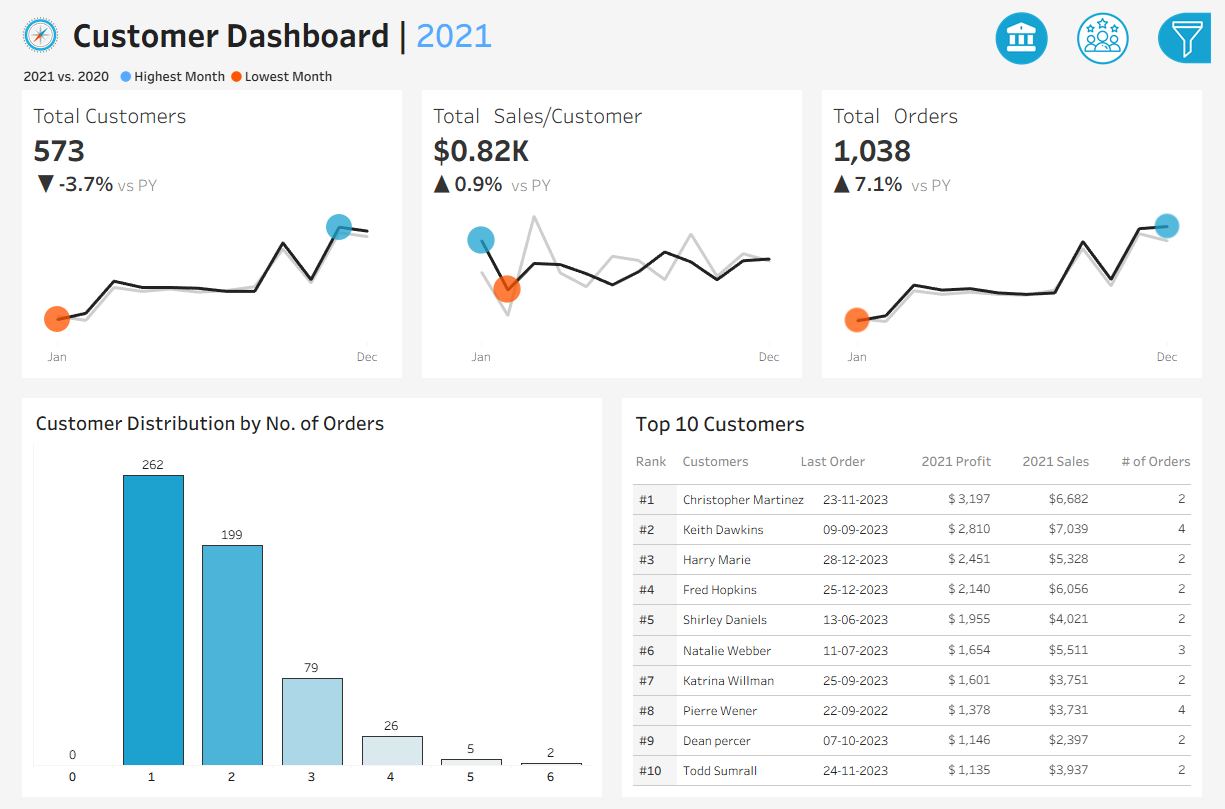

The dashboard page shown, as its layout file describes it:
{"tool":"tableau","page":{"name":"Customer Dashboard","canvas":[1200,800],"ordinal":0},"visuals":[{"type":"image","param":"Image/Icon - Logo.png","box":[2,0,52,55]},{"type":"text","box":[54,0,930,55]},{"type":"dashboard-object","box":[969,0,81,62]},{"type":"dashboard-object","box":[1050,0,81,62]},{"type":"blank","box":[978,5,215,80]},{"type":"worksheet","title":"Legend of KPI","mark":"Automatic","box":[0,55,1200,28]},{"type":"worksheet","title":"KPI Customers","mark":"Line","rows":["Min/Max profit (copy)_0750723922718724"],"cols":["Order Date"],"box":[0,83,400,298]},{"type":"worksheet","title":"KPI Sales Per Customers","mark":"Line","rows":["Min/Max Customers (copy)_0750723931500553"],"cols":["Order Date"],"box":[400,83,400,298]},{"type":"worksheet","title":"KPI Orders","mark":"Line","rows":["Min/Max Customers (copy)_0125651641778185"],"cols":["Order Date"],"box":[800,83,400,298]},{"type":"text","box":[978,85,215,32]},{"type":"parameter","param":"[Parameters].[Parameter 1018997670502403]","box":[978,117,215,63]},{"type":"blank","box":[978,180,215,45]},{"type":"text","box":[978,225,215,29]},{"type":"filter","title":"Customer Distribution","param":"[federated.0a49qa90tgosyq102g3m016yynfo].[none:Category:nk]","box":[978,254,215,52]},{"type":"filter","title":"Customer Distribution","param":"[federated.0a49qa90tgosyq102g3m016yynfo].[none:Sub-Category:nk]","box":[978,306,215,52]},{"type":"blank","box":[978,358,215,42]},{"type":"text","box":[17,398,566,34]},{"type":"text","box":[617,398,566,36]},{"type":"text","box":[978,400,215,38]},{"type":"worksheet","title":"Customer Distribution","mark":"Bar","rows":["Calculation_0190247816388609"],"cols":["Calculation_0506357867786240"],"box":[17,432,566,351]},{"type":"text","box":[617,434,47,39]},{"type":"text","box":[664,434,118,39]},{"type":"text","box":[782,434,121,39]},{"type":"text","box":[903,434,101,39]},{"type":"text","box":[1004,434,99,39]},{"type":"text","box":[1103,434,80,39]},{"type":"filter","title":"Customer Distribution","param":"[federated.0a49qa90tgosyq102g3m016yynfo].[none:Region:nk]","box":[978,438,215,52]},{"type":"worksheet","title":"Top Customers","mark":"Automatic","rows":["Calculation_0382663016828929","Customer Name","Order Date"],"box":[617,473,566,310]},{"type":"filter","title":"Customer Distribution","param":"[federated.0a49qa90tgosyq102g3m016yynfo].[none:State:nk]","box":[978,490,215,52]},{"type":"filter","title":"Customer Distribution","param":"[federated.0a49qa90tgosyq102g3m016yynfo].[none:City:nk]","box":[978,542,215,52]}]}

Visuals, with their boxes in screenshot pixels (x1, y1, x2, y2), scaled from the page's 1200x800 canvas onto the 1225x809 screenshot:
image: bbox=(2, 0, 55, 56)
text: bbox=(55, 0, 1004, 56)
dashboard-object: bbox=(989, 0, 1072, 63)
dashboard-object: bbox=(1072, 0, 1155, 63)
blank: bbox=(998, 5, 1218, 86)
"Legend of KPI" worksheet: bbox=(0, 56, 1224, 84)
"KPI Customers" worksheet (Line marks): bbox=(0, 84, 408, 385)
"KPI Sales Per Customers" worksheet (Line marks): bbox=(408, 84, 817, 385)
"KPI Orders" worksheet (Line marks): bbox=(817, 84, 1224, 385)
text: bbox=(998, 86, 1218, 118)
parameter: bbox=(998, 118, 1218, 182)
blank: bbox=(998, 182, 1218, 228)
text: bbox=(998, 228, 1218, 257)
"Customer Distribution" filter: bbox=(998, 257, 1218, 309)
"Customer Distribution" filter: bbox=(998, 309, 1218, 362)
blank: bbox=(998, 362, 1218, 404)
text: bbox=(17, 402, 595, 437)
text: bbox=(630, 402, 1208, 439)
text: bbox=(998, 404, 1218, 443)
"Customer Distribution" worksheet (Bar marks): bbox=(17, 437, 595, 792)
text: bbox=(630, 439, 678, 478)
text: bbox=(678, 439, 798, 478)
text: bbox=(798, 439, 922, 478)
text: bbox=(922, 439, 1025, 478)
text: bbox=(1025, 439, 1126, 478)
text: bbox=(1126, 439, 1208, 478)
"Customer Distribution" filter: bbox=(998, 443, 1218, 496)
"Top Customers" worksheet: bbox=(630, 478, 1208, 792)
"Customer Distribution" filter: bbox=(998, 496, 1218, 548)
"Customer Distribution" filter: bbox=(998, 548, 1218, 601)
